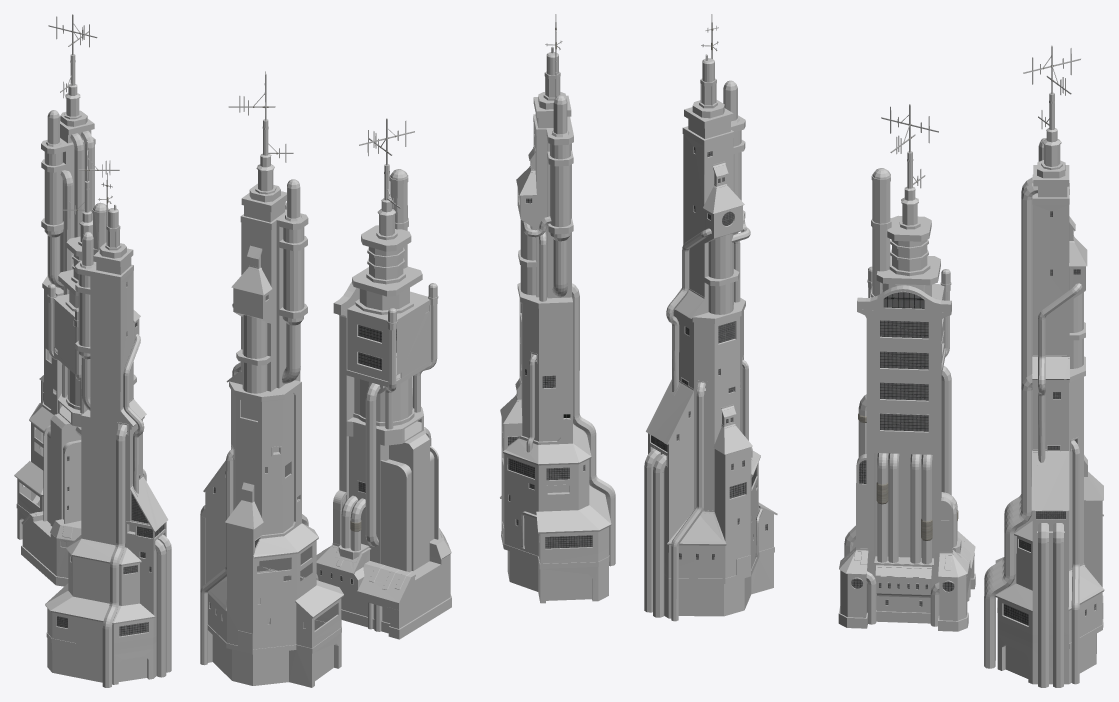
File: CommonBuilding_Fa_Distant.fbx
3 renders of one model, left to right at view 1: azimuth 30°, elevation 25°; view 2: azimuth 150°, elevation 25°; view 3: azimuth 270°, elevation 25°, orthographic. The views are drawn at different scales.
Visible parts, largest first — view 1: SM_ENV_AMVLLG02_CommonBuilding_Fa_Distant.mo; view 2: SM_ENV_AMVLLG02_CommonBuilding_Fa_Distant.mo; view 3: SM_ENV_AMVLLG02_CommonBuilding_Fa_Distant.mo.
Boxes of the visible parts, x1,y1,x2,y2 form: SM_ENV_AMVLLG02_CommonBuilding_Fa_Distant.mo: (14, 14, 171, 687); SM_ENV_AMVLLG02_CommonBuilding_Fa_Distant.mo: (200, 14, 615, 687); SM_ENV_AMVLLG02_CommonBuilding_Fa_Distant.mo: (644, 14, 1104, 687).
Size of the model in its own units: 5397 by 12416 by 8451.
